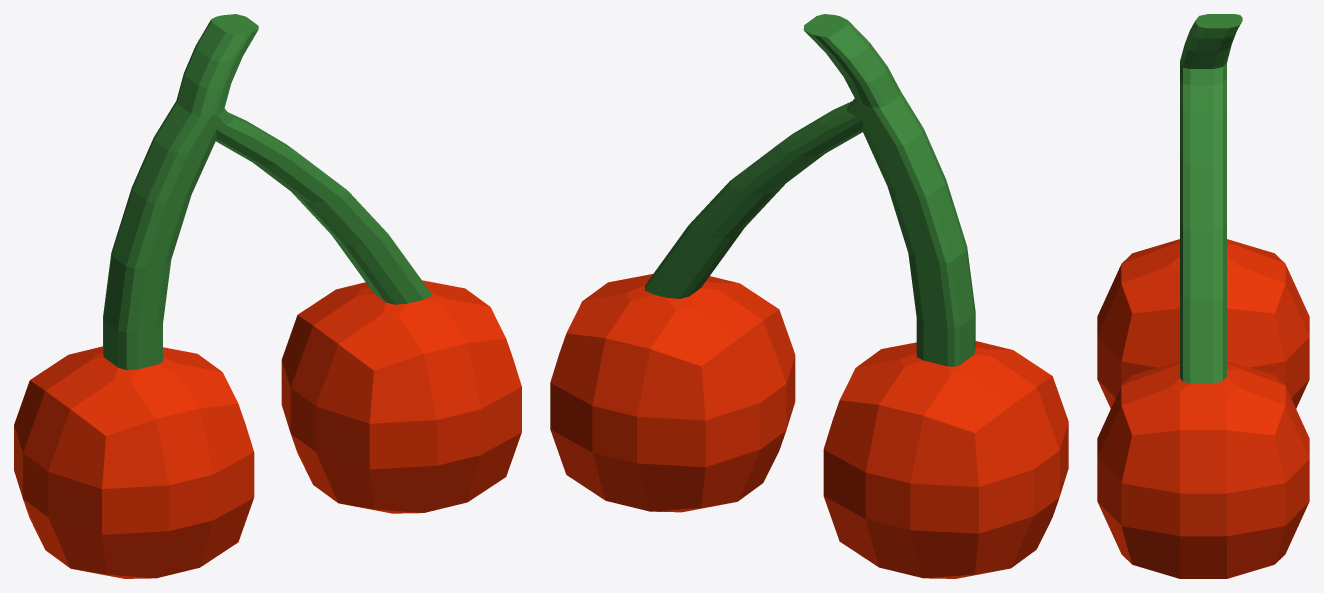
File: cherry2.fbx
3 views of the same model, side by side, from view 1: azimuth 30°, elevation 25°; view 2: azimuth 150°, elevation 25°; view 3: azimuth 270°, elevation 25° (orthographic). The views are drawn at different scales.
Visible parts, largest first — view 1: Cube; view 2: Cube; view 3: Cube.
Part boxes in pixels (x1=…): Cube: x1=14, y1=14, x2=521, y2=578; Cube: x1=550, y1=14, x2=1068, y2=578; Cube: x1=1097, y1=14, x2=1309, y2=578.
Size of the model in its own units: 472 by 492 by 200.
